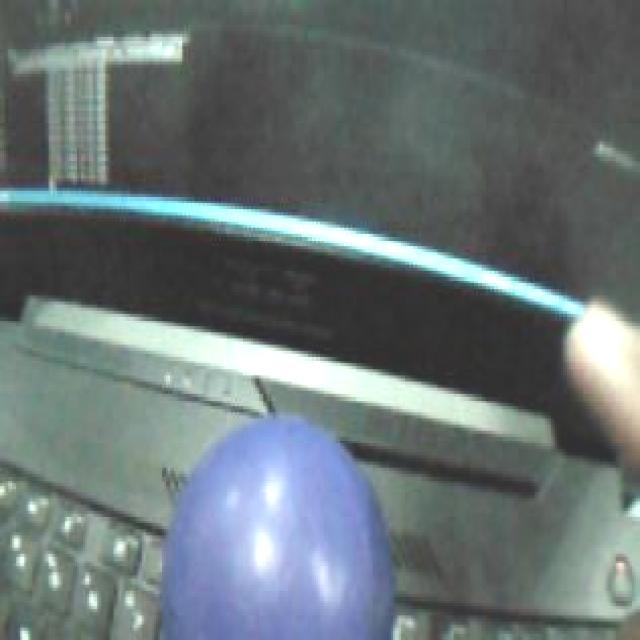BallPurple: (159, 416, 395, 640)
